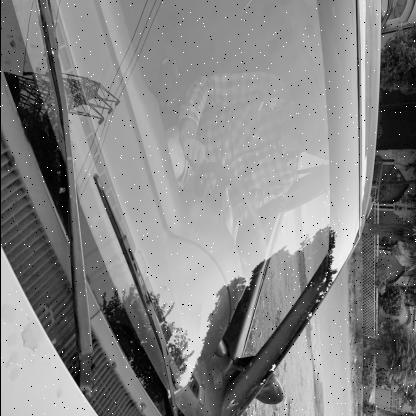no_seatbelt: (219, 102, 326, 190)
